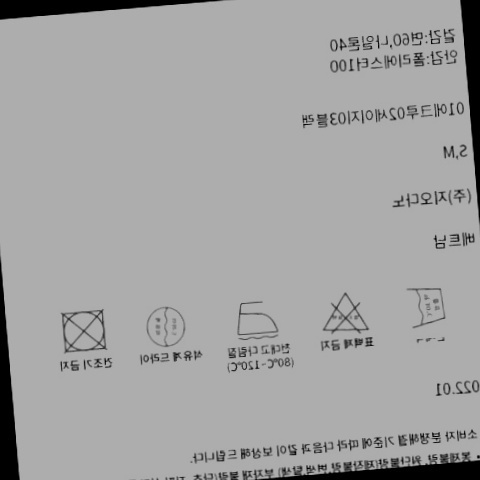30C: (400, 280, 449, 331)
DN_tumble_dry: (55, 306, 114, 355)
dry_clean_petrol_only: (136, 299, 189, 350)
iron: (230, 291, 284, 341)
non_chlorine_bleach: (314, 284, 372, 337)
